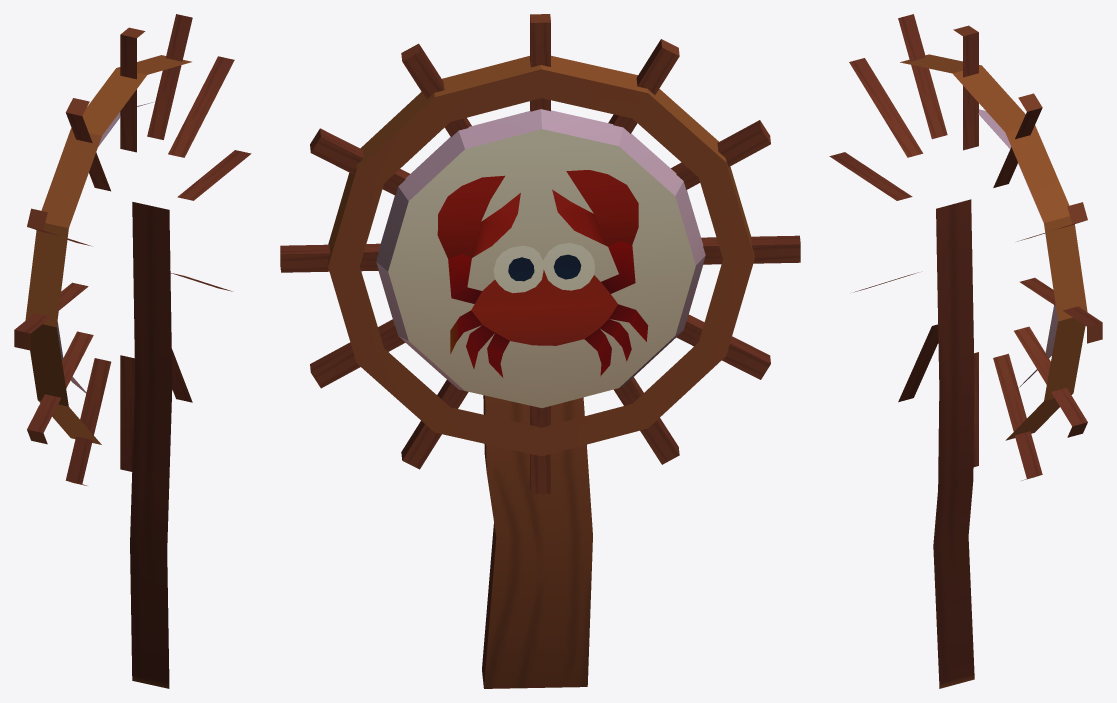
Rendered from 1.100_SanFrancisco_extra_10.glb.
3 views of the same model, side by side, from view 1: azimuth 30°, elevation 25°; view 2: azimuth 150°, elevation 25°; view 3: azimuth 270°, elevation 25° (orthographic). The views are drawn at different scales.
Parts seen in each view (by area): view 1: 1.100_SanFrancisco_extra_10; view 2: 1.100_SanFrancisco_extra_10; view 3: 1.100_SanFrancisco_extra_10.
Boxes of the visible parts, left/top/right/bottom form: 1.100_SanFrancisco_extra_10: left=14, top=14, right=251, bottom=688; 1.100_SanFrancisco_extra_10: left=280, top=14, right=800, bottom=688; 1.100_SanFrancisco_extra_10: left=829, top=14, right=1102, bottom=688.
Bounding box in the file's own units: 42.78 × 71.41 × 28.31.
1 material, 1 textured.
